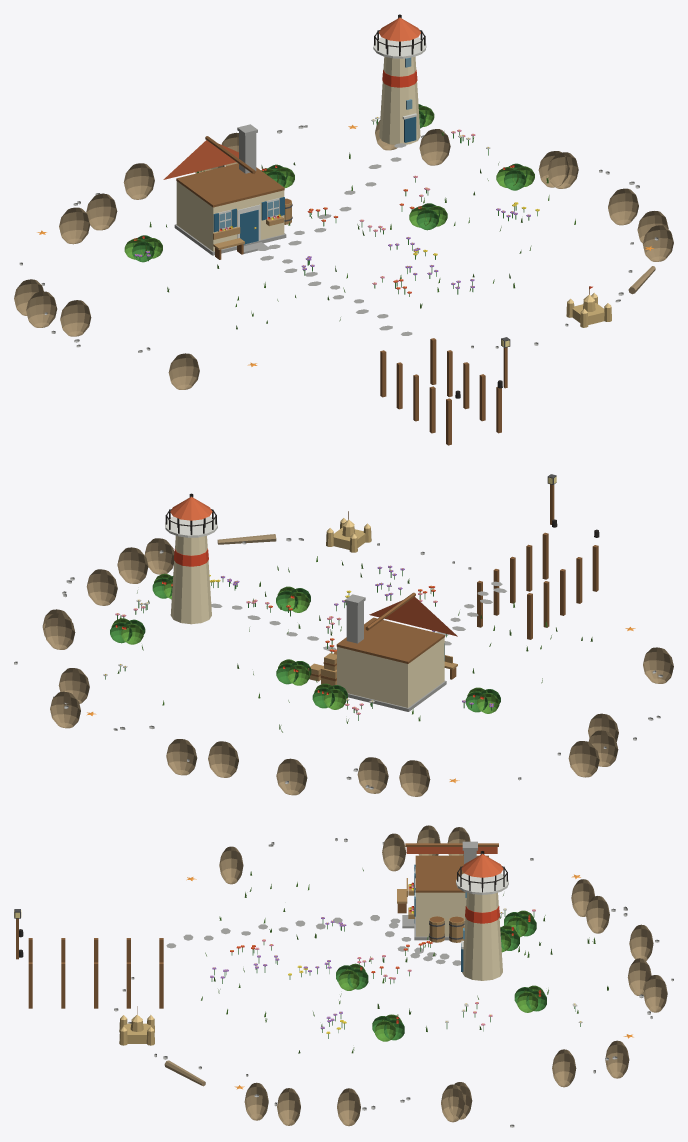
Rendered from village.glb.
3 renders of one model, top to bottom at view 1: azimuth 30°, elevation 25°; view 2: azimuth 150°, elevation 25°; view 3: azimuth 270°, elevation 25°, orthographic.
Parts seen in each view (by area): view 1: village; view 2: village; view 3: village.
Part boxes in pixels (left/top/right/bottom): village: left=14, top=14, right=673, bottom=445; village: left=14, top=474, right=673, bottom=796; village: left=14, top=825, right=673, bottom=1127.
Size of the model in its own units: 22 by 7.98 by 21.79.
